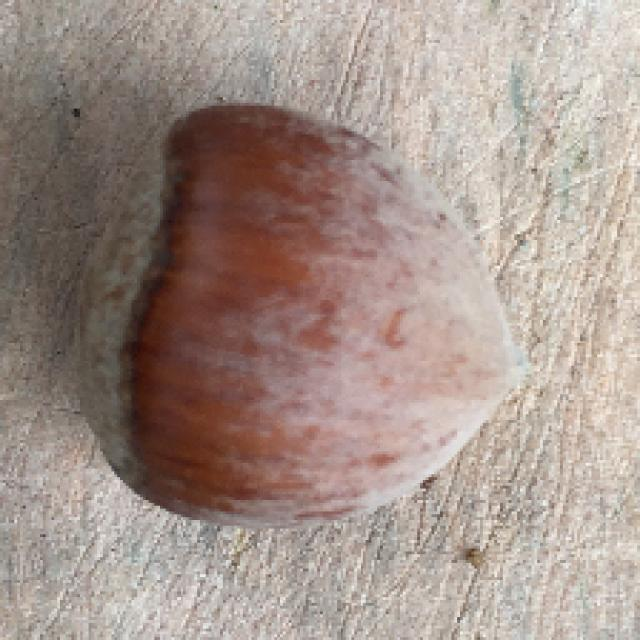qualityHazelnut: (77, 100, 522, 533)
